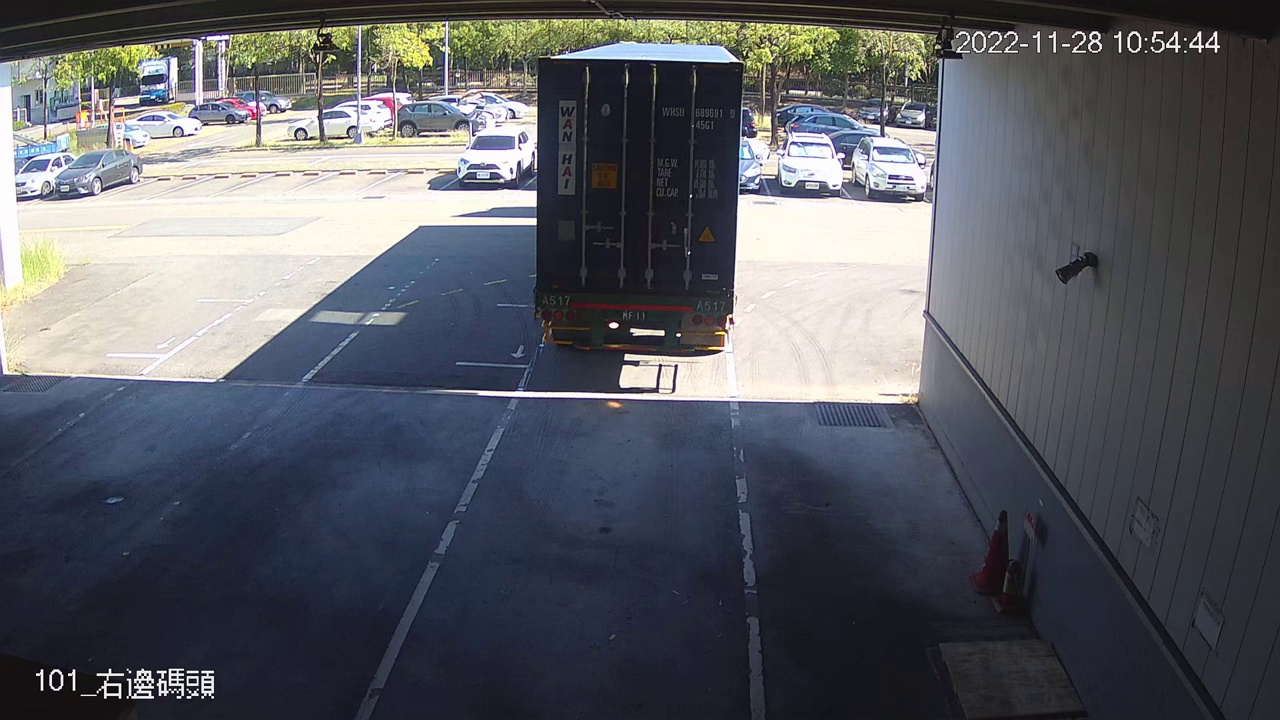container: (658, 100, 737, 135)
